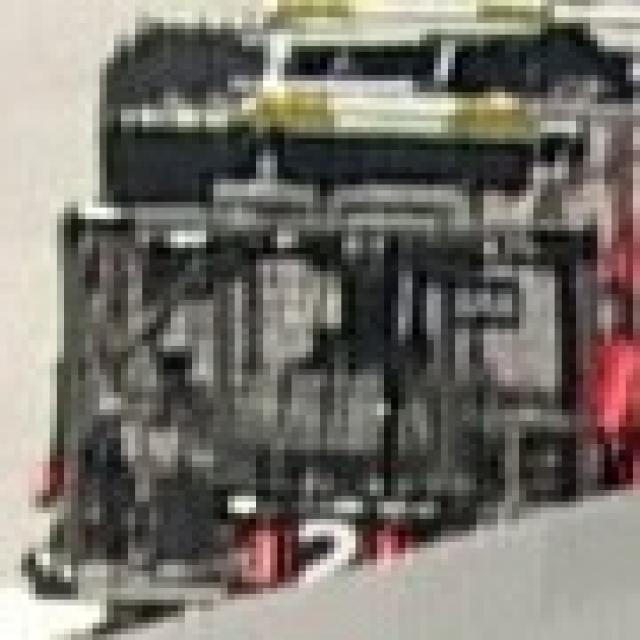R2: (242, 519, 405, 588)
